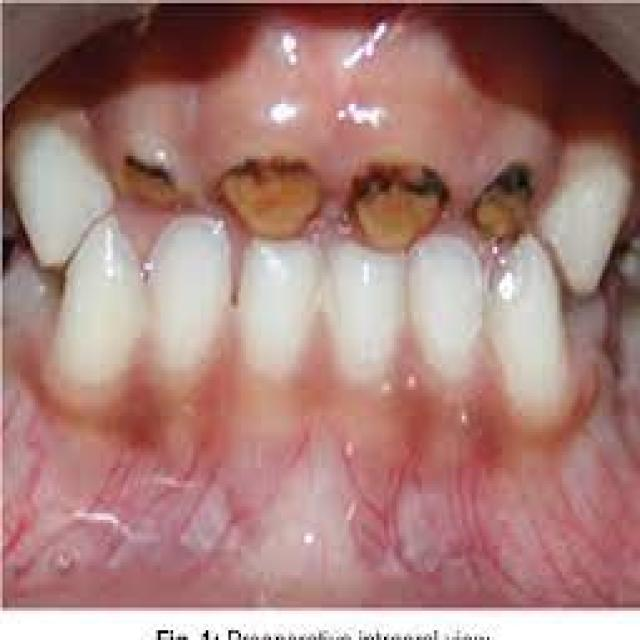caries: (216, 133, 323, 244), (344, 146, 443, 257), (466, 147, 541, 254), (111, 121, 188, 221)
